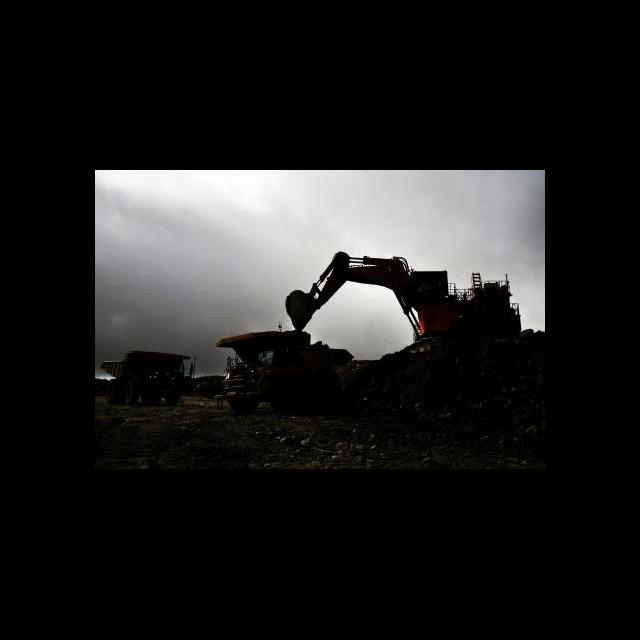Excavator: (282, 252, 523, 359)
dump truck: (214, 328, 356, 414), (100, 352, 198, 410)
